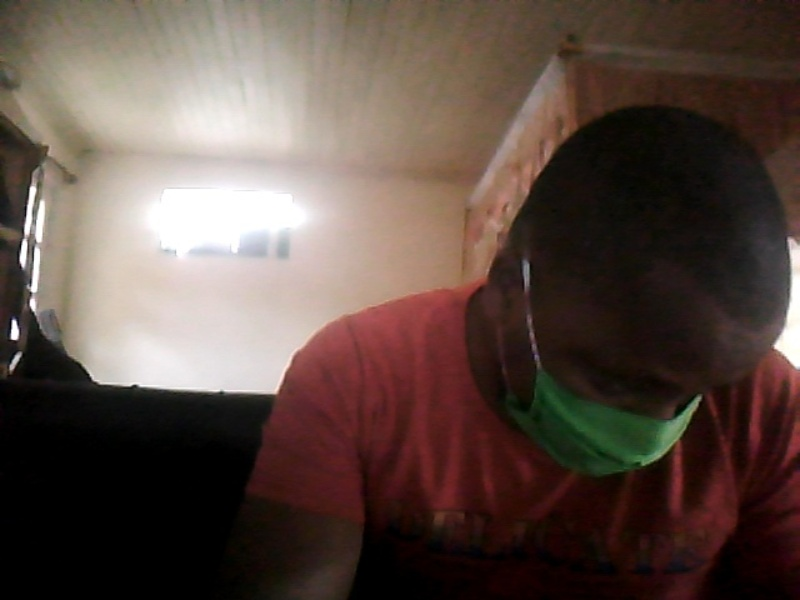ManaoArotava: (500, 163, 746, 508)
